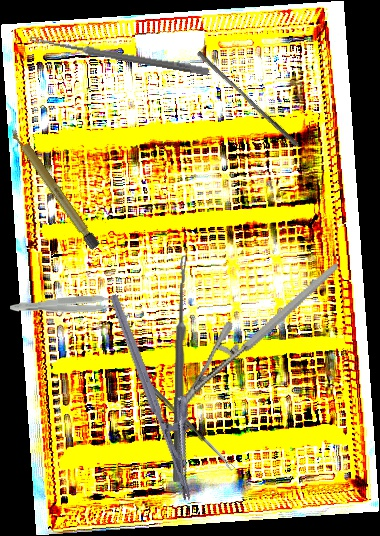Needle Holder: (144, 263, 368, 417), (108, 283, 221, 503)
Pusher: (193, 50, 304, 148)
Scalpel Handle: (7, 123, 101, 252)
Surgical Spoon: (135, 372, 236, 472), (29, 35, 210, 76), (173, 254, 188, 483)
Tissue Forceps: (9, 294, 125, 319)
